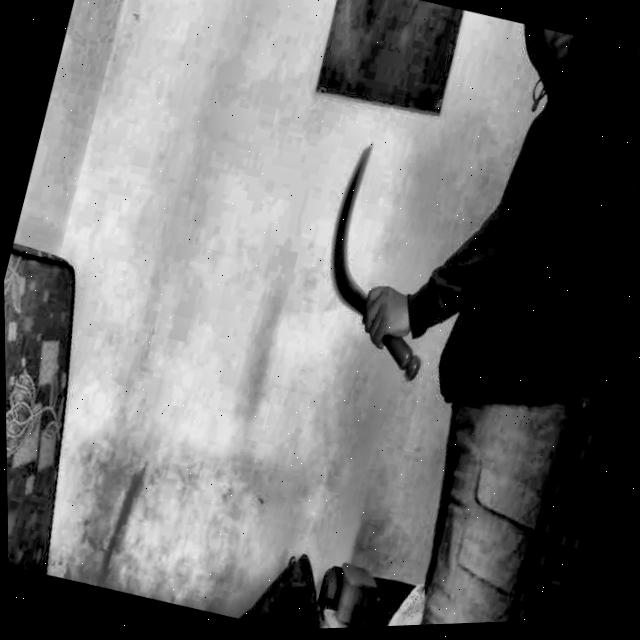robbery: (321, 21, 640, 625)
